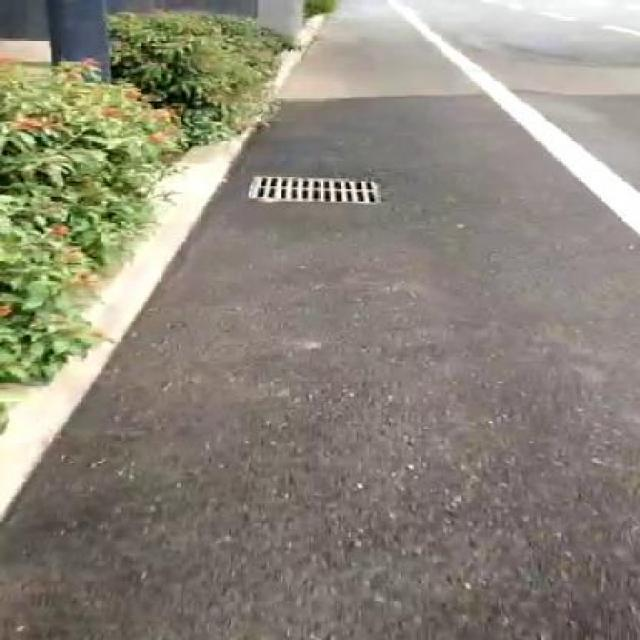Manhole: (246, 172, 380, 206)
